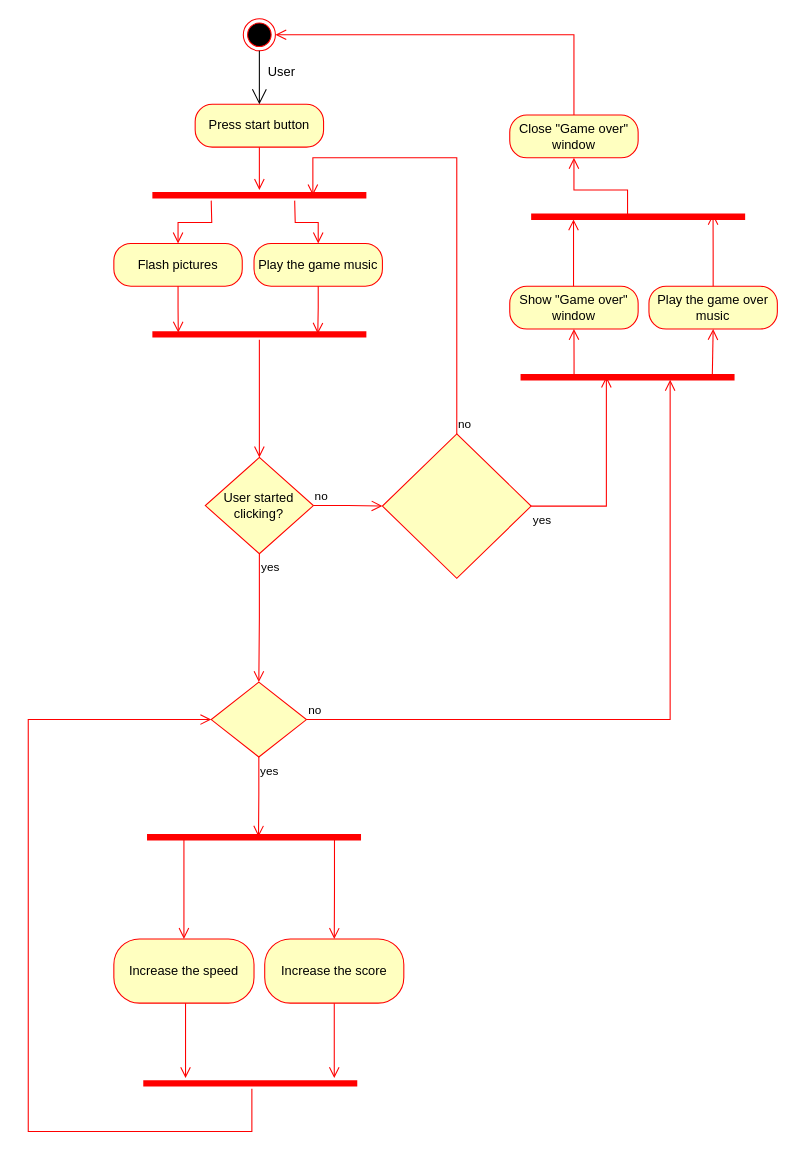
Some shapes in this 797 by 1161 pixel diagram are drawn without their labels. Here are the shapes that lost their labels. From the top down, the centre of each, then its label:
At (x=456, y=505): "User missed 3 flashes?".
At (x=258, y=719): "Cought a picture?".
